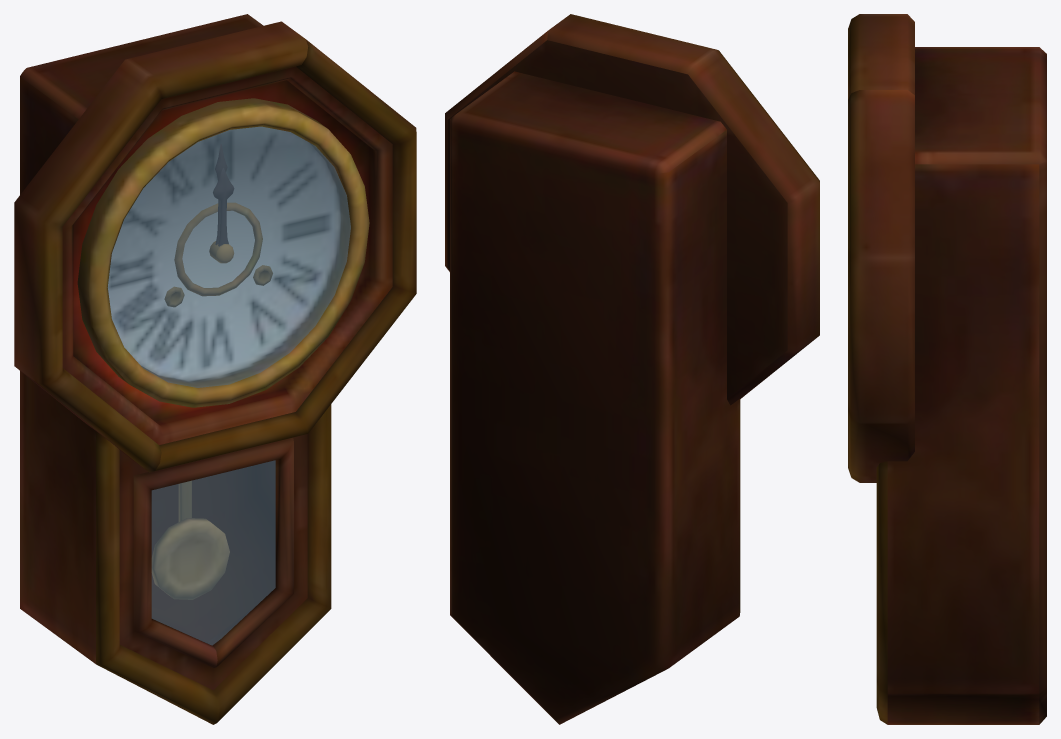
3 renders of one model, left to right at view 1: azimuth 30°, elevation 25°; view 2: azimuth 150°, elevation 25°; view 3: azimuth 270°, elevation 25°, orthographic. The views are drawn at different scales.
Bounding box in the file's own units: 5.73 × 9.81 × 2.63.
Materials: 2 (1 with a texture image).
